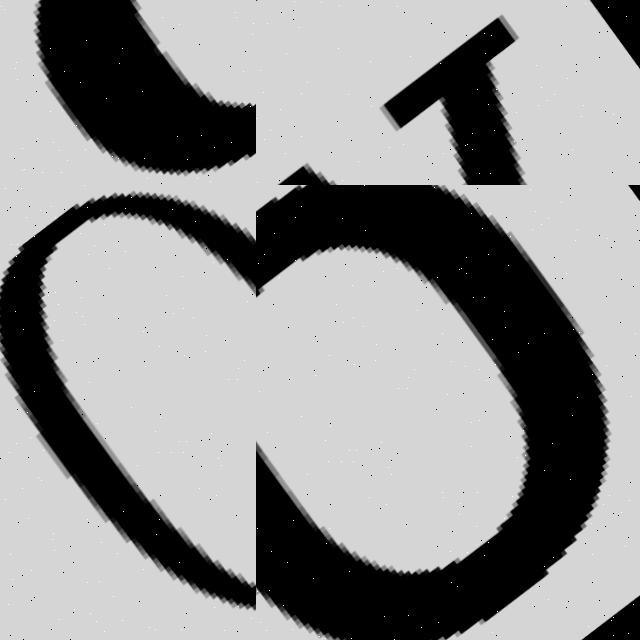0: (0, 185, 256, 640)
6: (0, 0, 256, 185)
O: (256, 185, 619, 640)
W: (256, 0, 640, 185)
